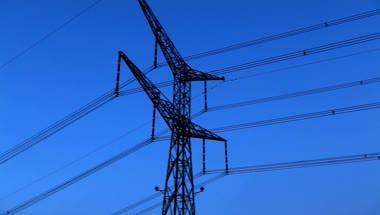power_tower: (112, 1, 230, 215)
